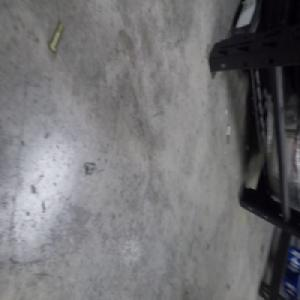Bolt: (47, 19, 65, 55)
